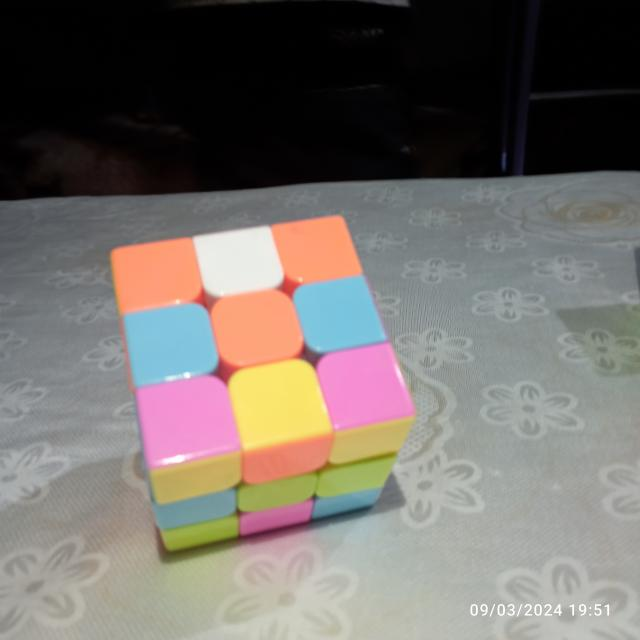Rub: (103, 209, 419, 552)
